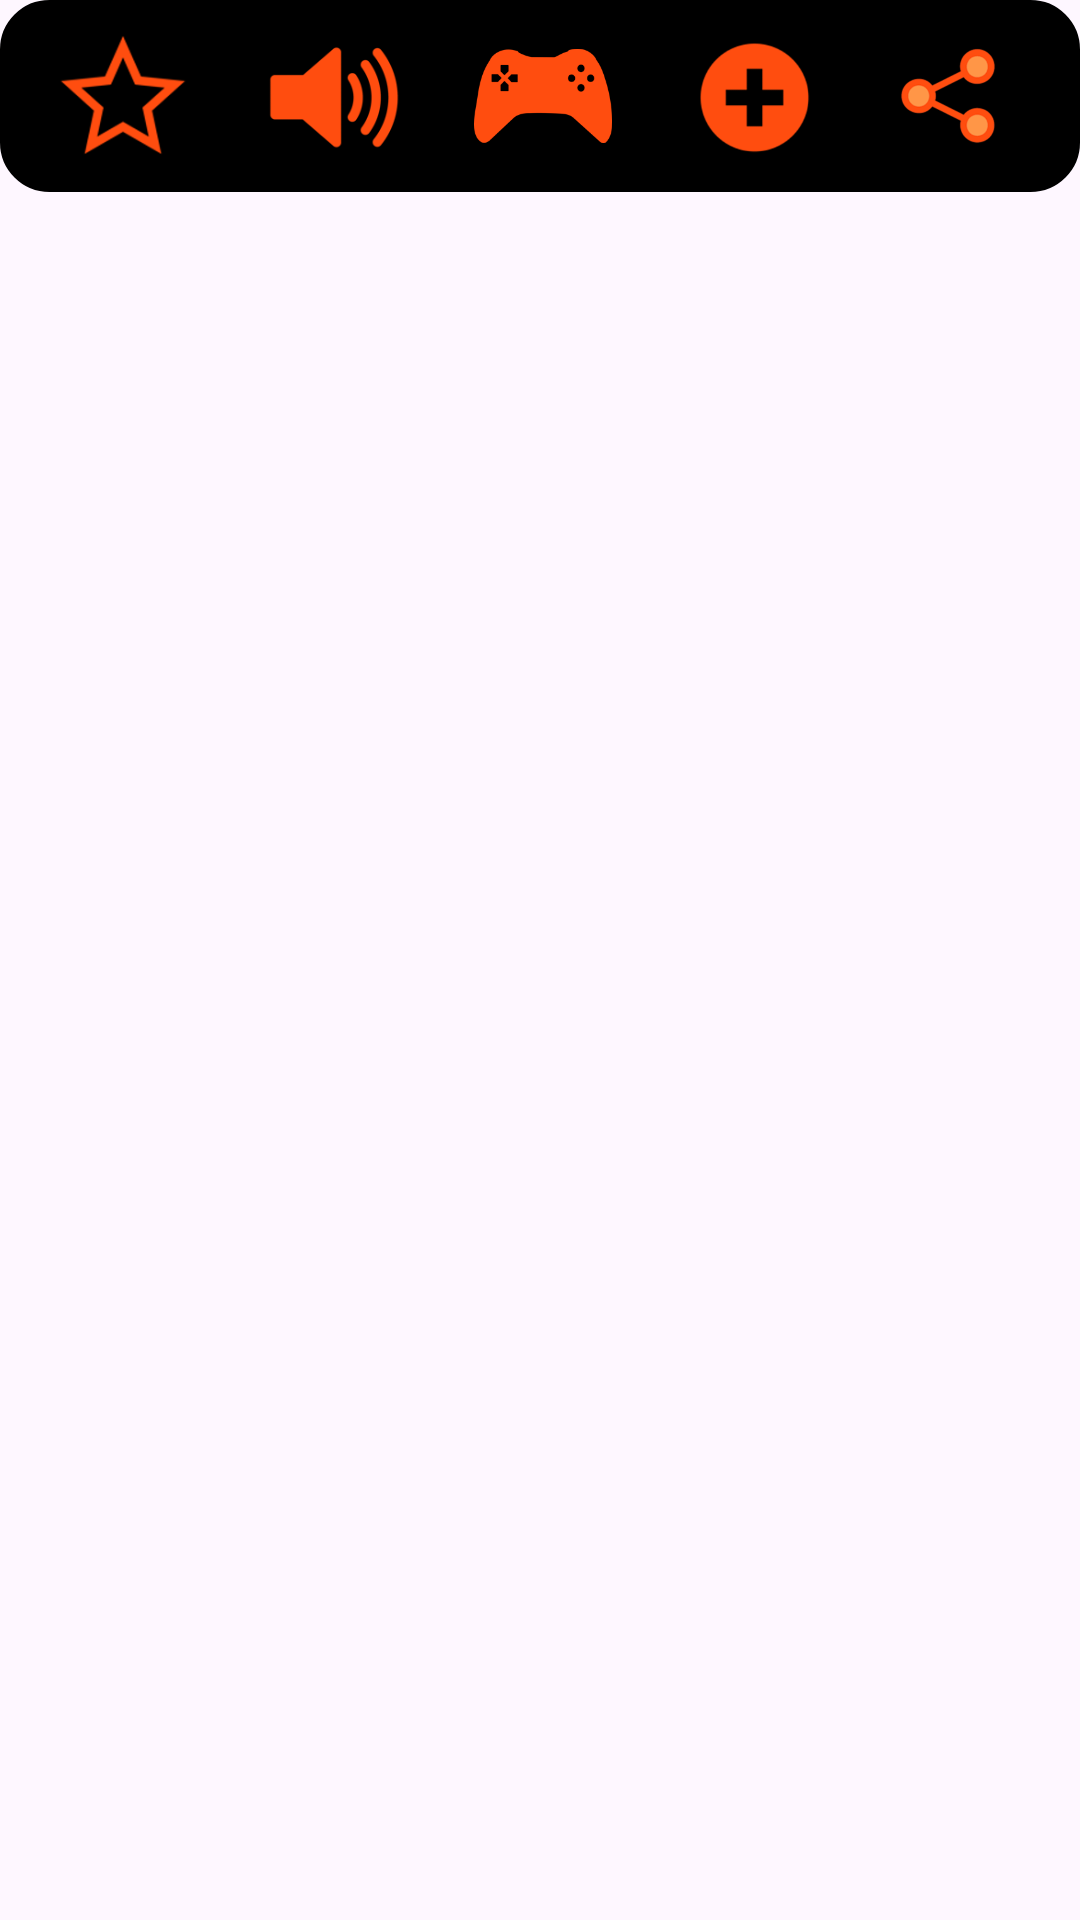

Screen size 1080w x 1920h. Icon name, then its center in pixels as [x,y]:
controller: [543,96]
plus: [754,97]
share: [948,96]
sound on: [334,97]
star: [123,95]
